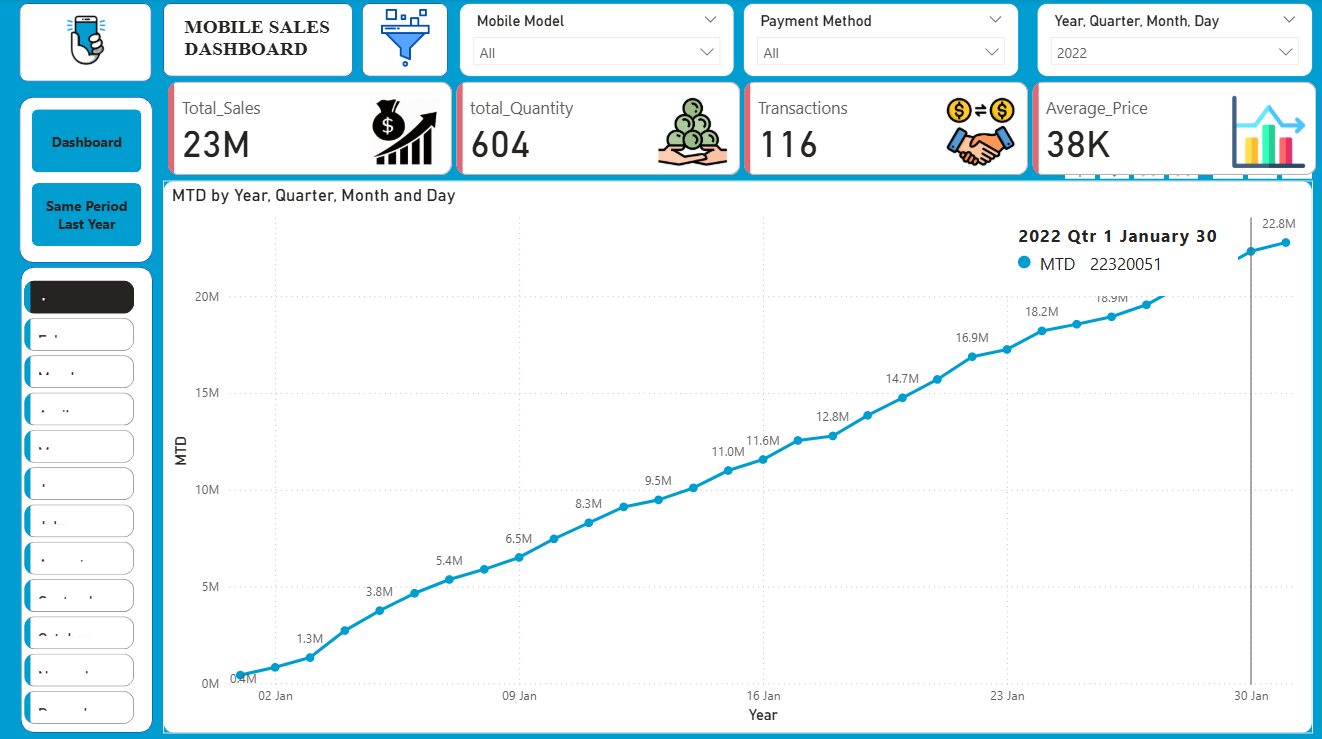

Layout of this report page (visuals, bound fields, positions):
{"tool":"powerbi","page":{"name":"MTD Report","canvas":[1280,720],"ordinal":1},"visuals":[{"type":"shape","box":[20.5,4.8,127.9,76],"z":0},{"type":"image","box":[49.5,4.8,71.2,71.2],"z":1000},{"type":"shape","box":[20.5,95.3,129.1,160.5],"z":2000},{"type":"cardVisual","fields":{"Data":["Sales_Analysis.Total_Sales","Sales_Analysis.total_Quantity","Sales_Analysis.Transactions","Sales_Analysis.Average_Price"]},"box":[159.3,76,1120.8,100.1],"z":3000},{"type":"slicer","fields":{"Values":["Sales_Analysis.Mobile Model"]},"box":[445.2,4.8,265.4,71.2],"z":4000},{"type":"slicer","fields":{"Values":["Sales_Analysis.Payment Method"]},"box":[719,4.8,266.6,71.2],"z":5000},{"type":"slicer","fields":{"Values":["Custom_Calendar.Date.Variation.Date Hierarchy.Year","Custom_Calendar.Date.Variation.Date Hierarchy.Quarter","Custom_Calendar.Date.Variation.Date Hierarchy.Month","Custom_Calendar.Date.Variation.Date Hierarchy.Day"]},"box":[1002.6,4.8,266.6,71.2],"z":6000},{"type":"shape","box":[351.1,4.8,83.2,71.2],"z":7000},{"type":"image","box":[359.5,0,67.6,76],"z":8000},{"type":"shape","box":[159.3,4.8,183.4,71.2],"z":9000},{"type":"textbox","box":[174.9,12.1,150.8,56.7],"z":10000},{"type":"lineChart","fields":{"Y":["Sales_Analysis.MTD"],"Category":["Custom_Calendar.Date.Variation.Date Hierarchy.Year","Custom_Calendar.Date.Variation.Date Hierarchy.Quarter","Custom_Calendar.Date.Variation.Date Hierarchy.Month","Custom_Calendar.Date.Variation.Date Hierarchy.Day"]},"box":[159.3,176.1,1109.9,533.2],"z":11000},{"type":"shape","box":[21.7,259.4,127.9,450],"z":12000},{"type":"advancedSlicerVisual","fields":{"Values":["Custom_Calendar.Date.Variation.Date Hierarchy.Month"]},"box":[20.6,267.6,116.6,441.9],"z":13000},{"type":"cardVisual","fields":{"Data":["Sales_Analysis.Total_Sales","Sales_Analysis.total_Quantity","Sales_Analysis.Transactions","Sales_Analysis.Average_Price"]},"box":[159.2,76,1120.8,100.1],"z":14000},{"type":"pageNavigator","box":[32.6,107.4,106.2,133.9],"z":15000}]}

Visuals, with their boxes in screenshot pixels (x1, y1, x2, y2), scaled from the page's 1280x720 canvas onto the 1322x739 screenshot:
shape: region(21, 5, 153, 83)
image: region(51, 5, 125, 78)
shape: region(21, 98, 155, 263)
cardVisual - Sales_Analysis.Total_Sales x Sales_Analysis.total_Quantity: region(165, 78, 1321, 181)
slicer - Sales_Analysis.Mobile Model: region(460, 5, 734, 78)
slicer - Sales_Analysis.Payment Method: region(743, 5, 1018, 78)
slicer - Custom_Calendar.Date.Variation.Date Hierarchy.Year x Custom_Calendar.Date.Variation.Date Hierarchy.Quarter: region(1035, 5, 1311, 78)
shape: region(363, 5, 449, 78)
image: region(371, 0, 441, 78)
shape: region(165, 5, 354, 78)
textbox: region(181, 12, 336, 71)
lineChart - Sales_Analysis.MTD x Custom_Calendar.Date.Variation.Date Hierarchy.Year: region(165, 181, 1311, 728)
shape: region(22, 266, 155, 728)
advancedSlicerVisual - Custom_Calendar.Date.Variation.Date Hierarchy.Month: region(21, 275, 142, 728)
cardVisual - Sales_Analysis.Total_Sales x Sales_Analysis.total_Quantity: region(164, 78, 1321, 181)
pageNavigator: region(34, 110, 143, 248)
